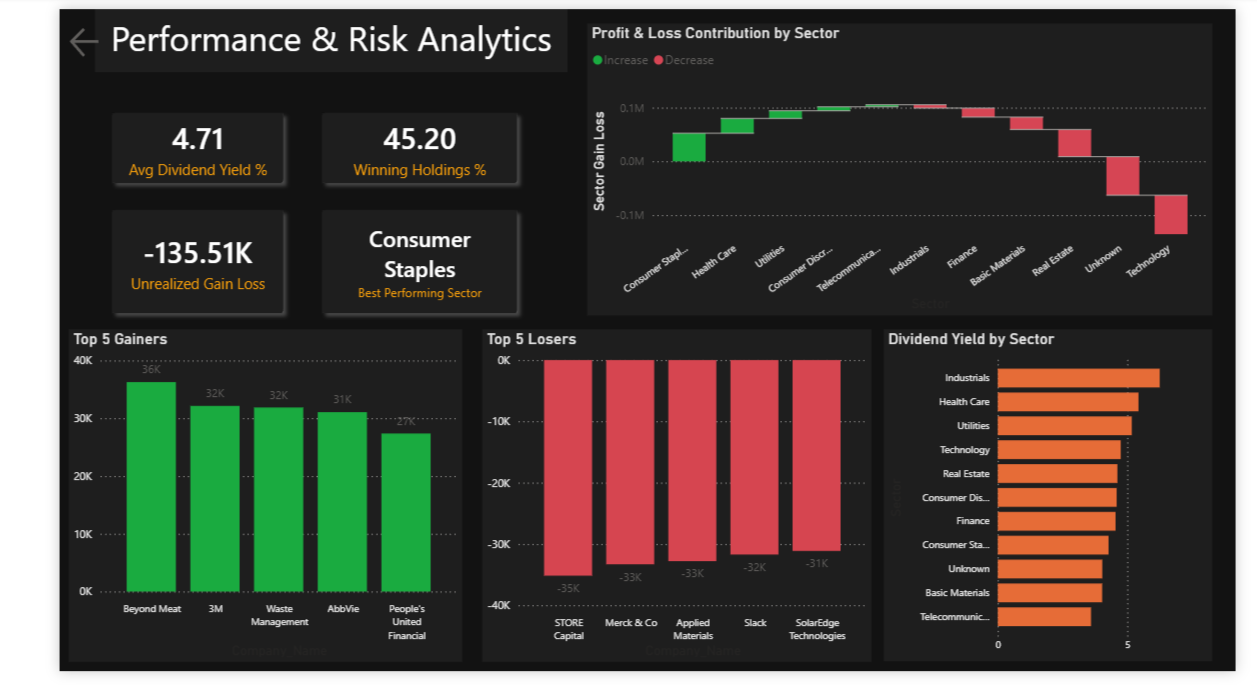

The page's visual inventory and layout, read from the dashboard file:
{"tool":"powerbi","page":{"name":"Page 3","canvas":[1280,720],"ordinal":2},"visuals":[{"type":"textbox","box":[38.6,0,514.3,68.6],"z":0},{"type":"cardVisual","fields":{"Data":["Brokers.Unrealized Gain Loss"]},"box":[28.6,190,244.3,170],"z":1000},{"type":"cardVisual","fields":{"Data":["Brokers.Best Performing Sector"]},"box":[257.1,190,270,170],"z":2000},{"type":"cardVisual","fields":{"Data":["Brokers.Avg Dividend Yield"]},"box":[28.2,84.5,244.5,134.5],"z":3000},{"type":"waterfallChart","title":"Profit & Loss Contribution by Sector","fields":{"Y":["Brokers.Sector Gain Loss"],"Category":["Companies.Sector"]},"box":[573.8,16.2,680,317.5],"z":4000},{"type":"cardVisual","fields":{"Data":["Brokers.Winning Holdings %"]},"box":[257.3,84.5,270,134.5],"z":5000},{"type":"clusteredColumnChart","title":"Top 5 Gainers","fields":{"Category":["Companies.Company_Name"],"Y":["Brokers.Holding Gain Loss"]},"box":[10,348.2,428.2,361.8],"z":6000},{"type":"clusteredColumnChart","title":"Top 5 Losers","fields":{"Category":["Companies.Company_Name"],"Y":["Brokers.Holding Gain Loss"]},"box":[460,348.2,423.6,361.8],"z":7000},{"type":"clusteredBarChart","title":"Dividend Yield by Sector","fields":{"Category":["Companies.Sector"],"Y":["Brokers.Avg Dividend Yield"]},"box":[897.1,348.6,357.1,361.4],"z":8000},{"type":"actionButton","box":[7.1,15.7,42.9,41.4],"z":9000}]}

Visuals, with their boxes on the page's 1280x720 design canvas (x1, y1, x2, y2). These are canvas units, not pixel positions in the 1257x685 screenshot, which may show the page scaled, cropped or inside an application window:
textbox: 39/0/553/69
cardVisual - Brokers.Unrealized Gain Loss: 29/190/273/360
cardVisual - Brokers.Best Performing Sector: 257/190/527/360
cardVisual - Brokers.Avg Dividend Yield: 28/84/273/219
"Profit & Loss Contribution by Sector" waterfallChart: 574/16/1254/334
cardVisual - Brokers.Winning Holdings %: 257/84/527/219
"Top 5 Gainers" clusteredColumnChart: 10/348/438/710
"Top 5 Losers" clusteredColumnChart: 460/348/884/710
"Dividend Yield by Sector" clusteredBarChart: 897/349/1254/710
actionButton: 7/16/50/57
